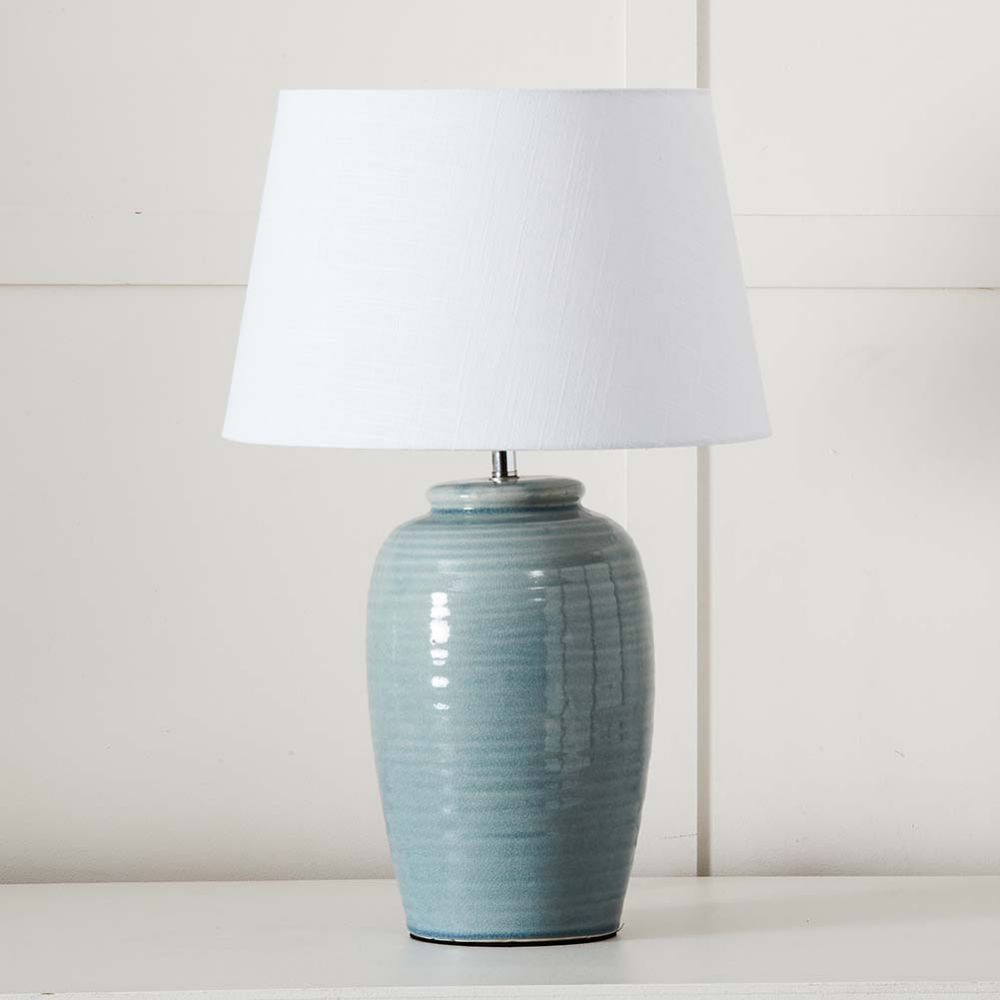lampu: (221, 81, 768, 941)
